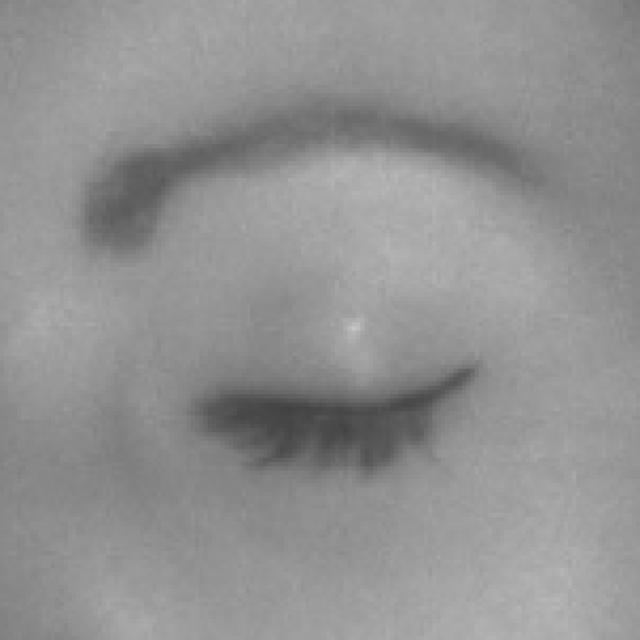Eyeclosed: (202, 290, 476, 549)
